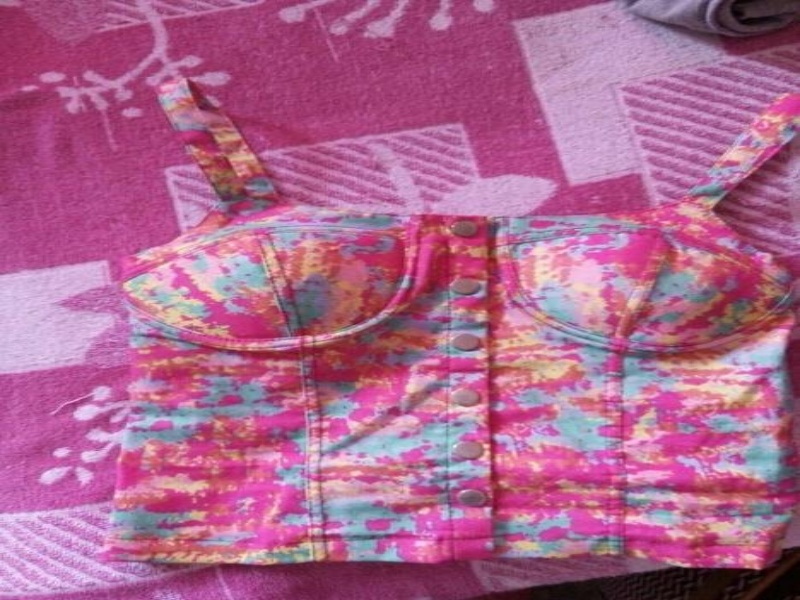sling: (91, 68, 797, 580)
